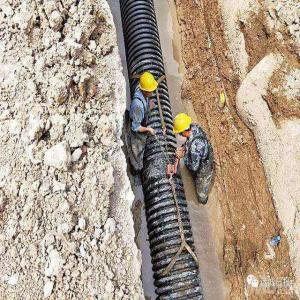yellow: (139, 72, 159, 102), (173, 113, 192, 142)
